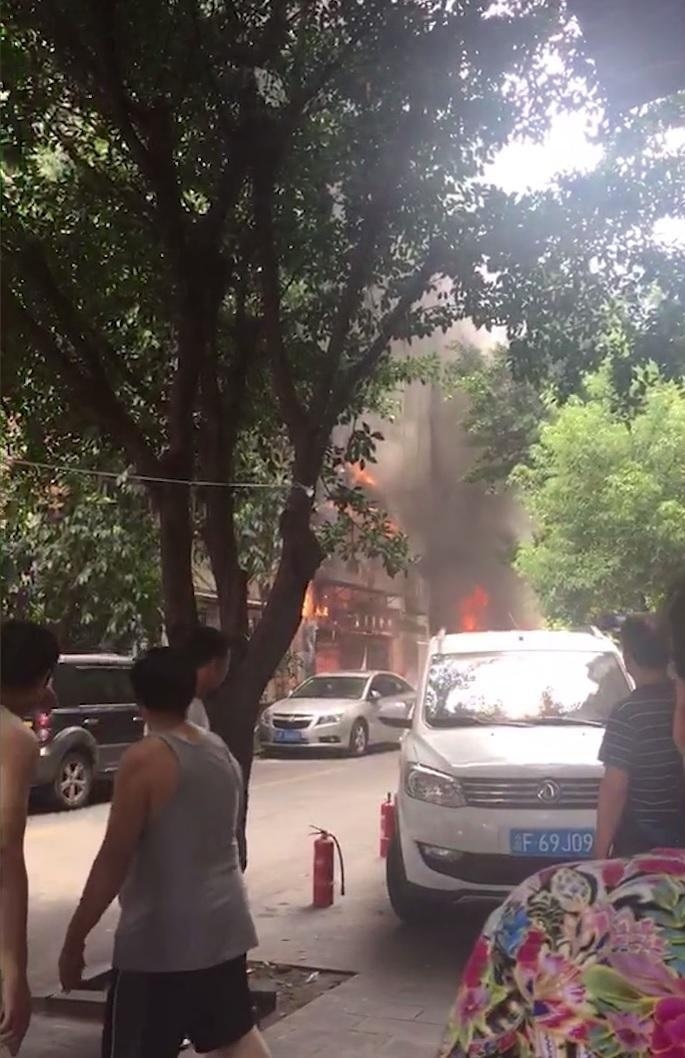fire: (332, 454, 387, 528), (453, 587, 493, 633), (299, 580, 328, 620)
